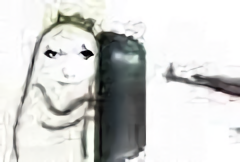dragon: (43, 42, 96, 87)
